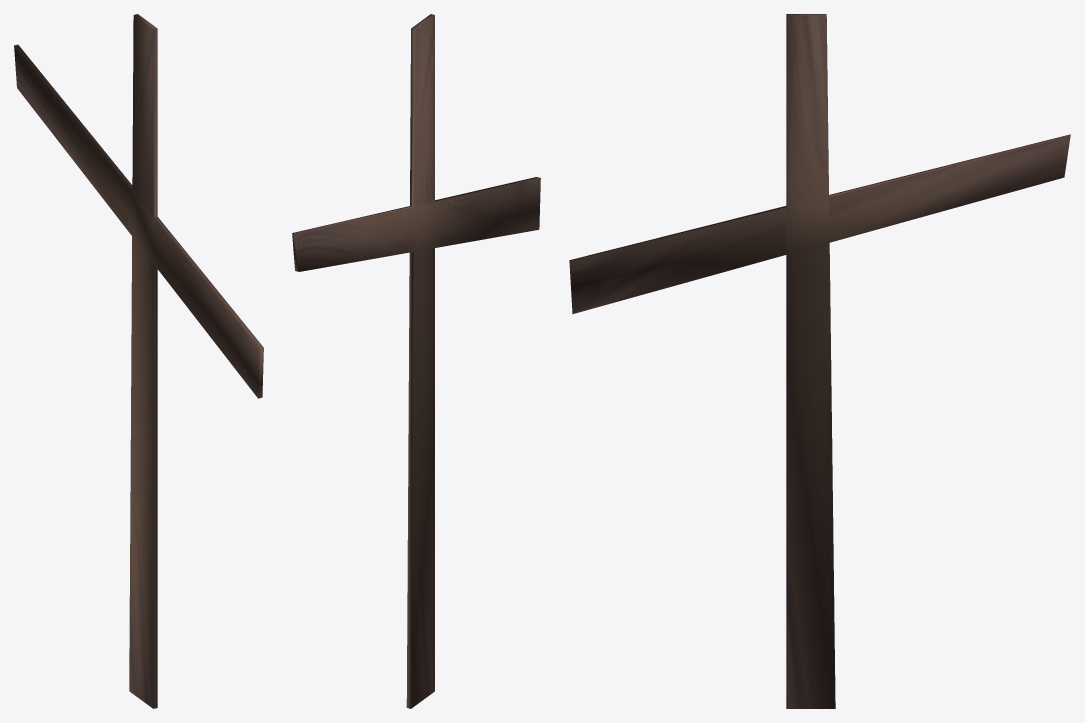
Rendered from Grave_shipwreck02 1.fbx.
3 renders of one model, left to right at view 1: azimuth 30°, elevation 25°; view 2: azimuth 150°, elevation 25°; view 3: azimuth 270°, elevation 25°, orthographic. The views are drawn at different scales.
Visible parts, largest first — view 1: Grave_shipwreck02; view 2: Grave_shipwreck02; view 3: Grave_shipwreck02.
Boxes of the visible parts, x1,y1,x2,y2 form: Grave_shipwreck02: (14, 14, 263, 708); Grave_shipwreck02: (292, 14, 540, 708); Grave_shipwreck02: (569, 14, 1070, 708).
Bounding box in the file's own units: 0.00289 × 0.4387 × 0.2875.
1 material, 1 textured.
